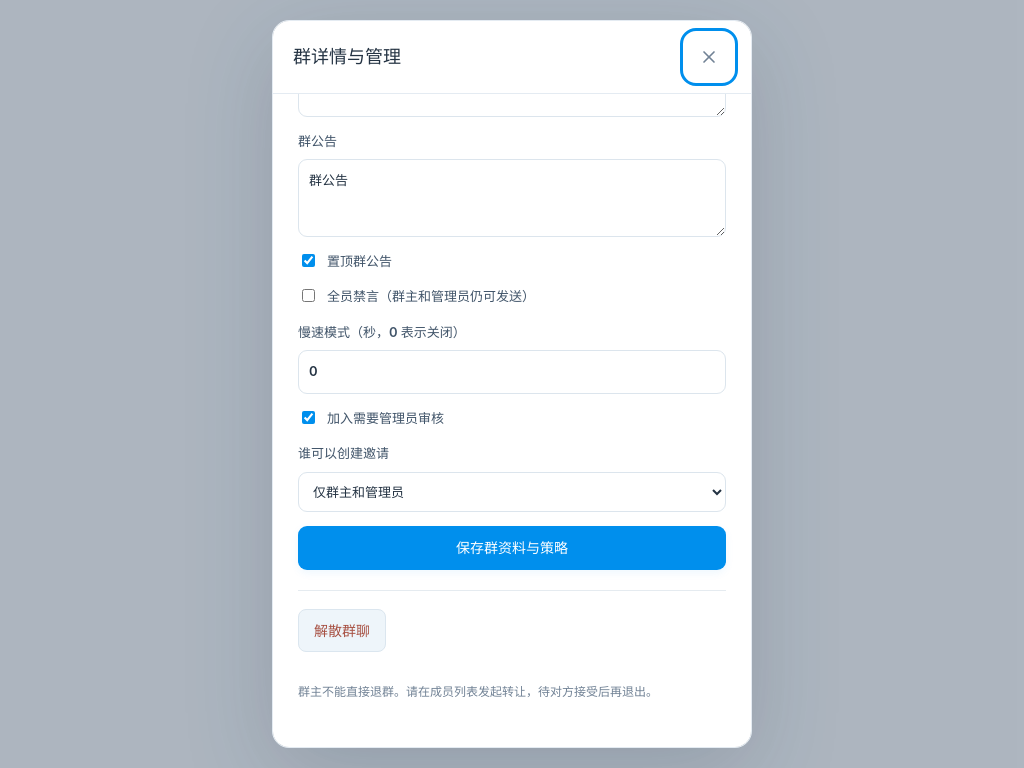
M5-UI group creation and management › clears sensitive inputs after cancelling dissolution and requires consequence confirmation
(page scrolled)
Step 1. Click the button "解散群聊" → [342, 630], box [298,609,386,652]
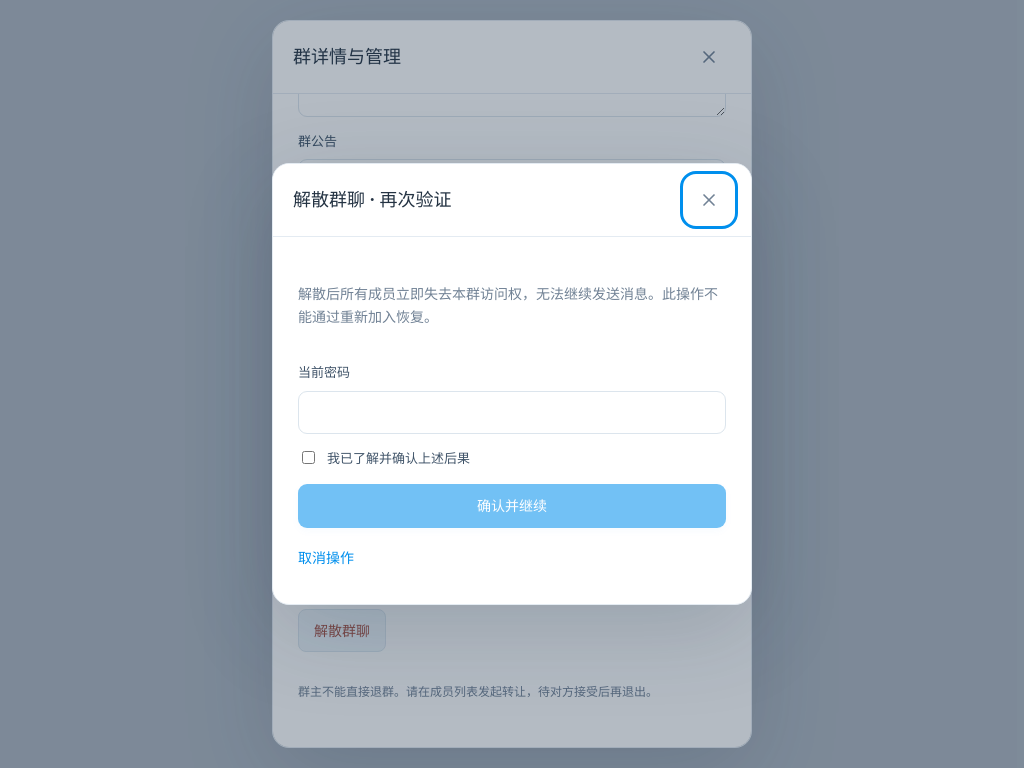
Step 2. Type "never-retain" into the password field labelled "当前密码" → [512, 412], box [298,391,726,434]
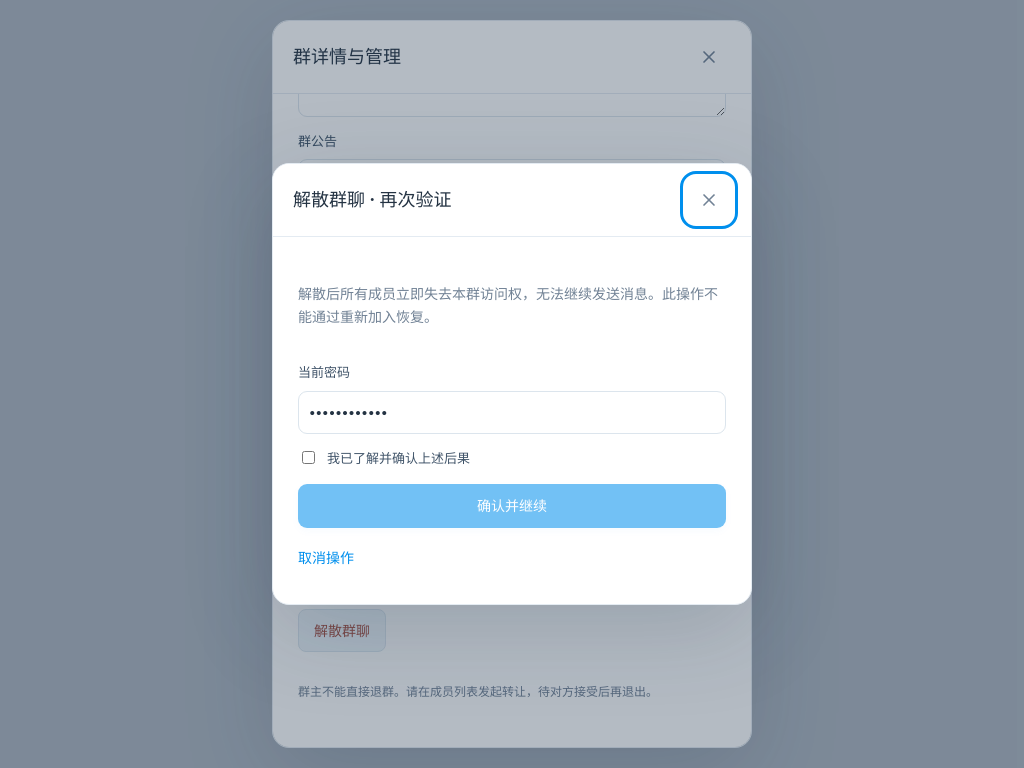
Now the button "确认并继续" is disabled, box [298,484,726,528]
Step 3. Click the button "取消操作" → [326, 557], box [298,536,354,579]
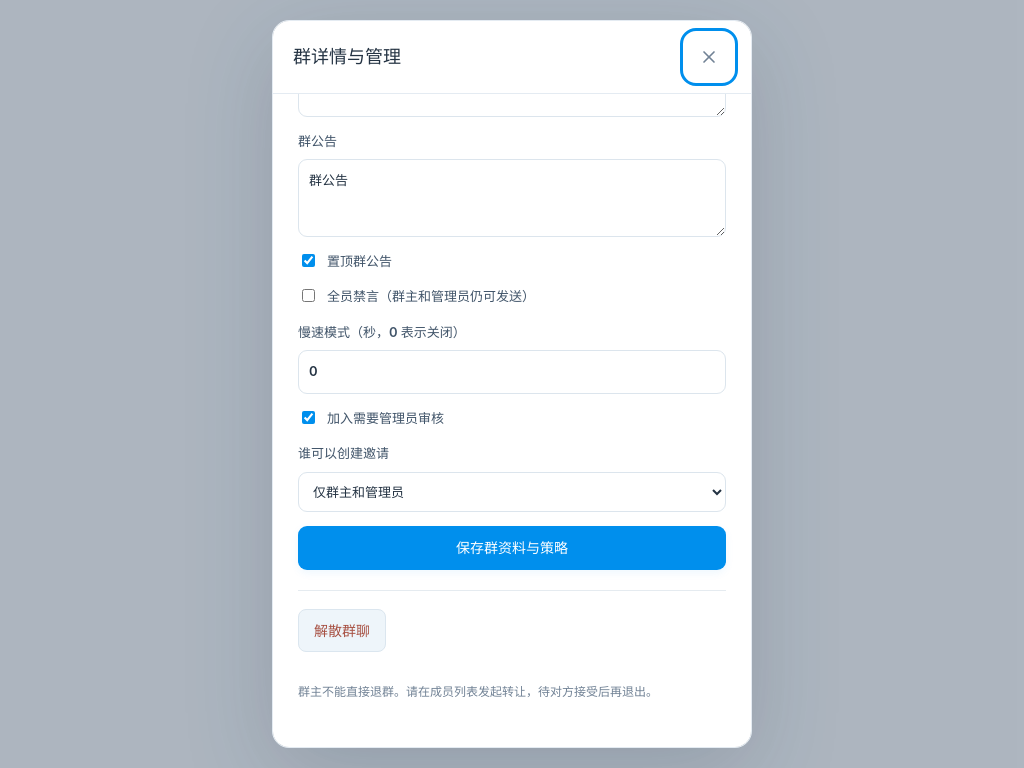
Step 4. Click the button "解散群聊" → [342, 630], box [298,609,386,652]
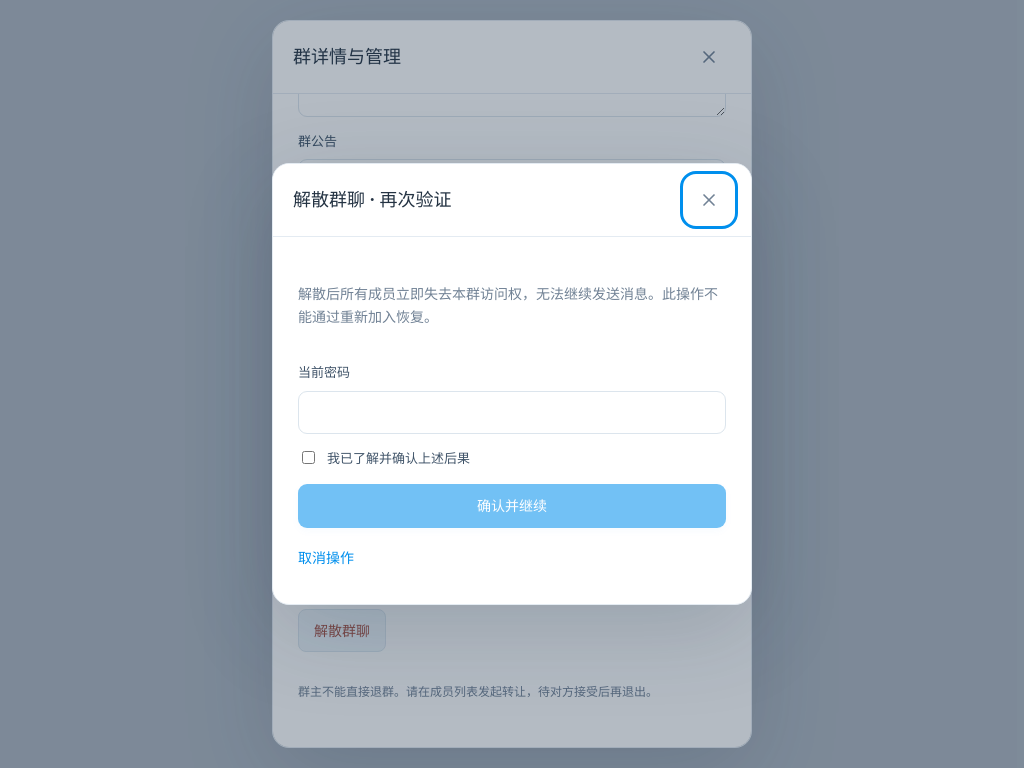
Now the password field labelled "当前密码" is empty, box [298,391,726,434]
Now the checkbox labelled "我已了解并确认上述后果" is not checked, box [302,451,315,464]
